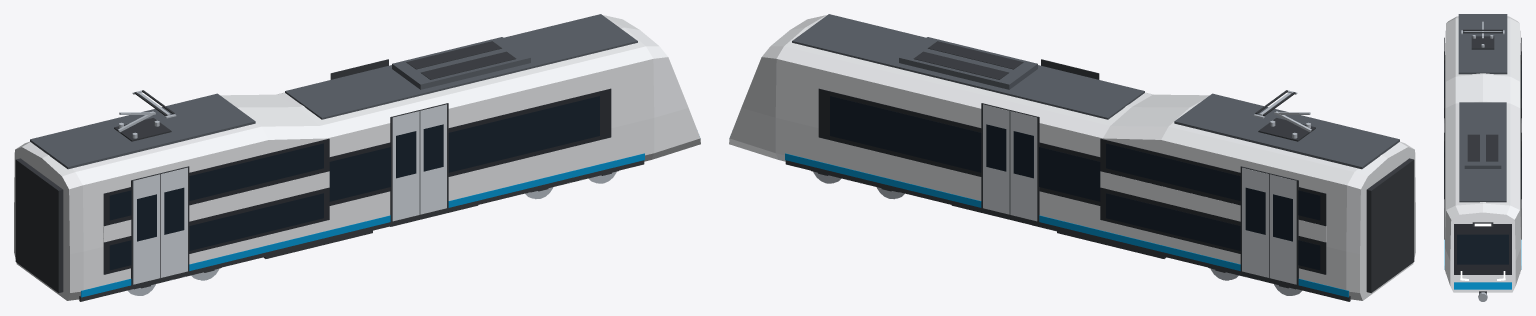
Rendered from rer_e_rerng_cab.glb.
The picture shows the model from 3 angles, left to right: view 1: azimuth 30°, elevation 25°; view 2: azimuth 150°, elevation 25°; view 3: azimuth 270°, elevation 25°; orthographic projection. The views are drawn at different scales.
Visible parts, largest first — view 1: rer_e_rerng_cab; view 2: rer_e_rerng_cab; view 3: rer_e_rerng_cab.
Part boxes in pixels (x1,y1,x2,y2): rer_e_rerng_cab: (14, 14, 700, 301); rer_e_rerng_cab: (729, 14, 1415, 301); rer_e_rerng_cab: (1444, 14, 1521, 301).
Bounding box in the file's own units: 18.97 × 4.88 × 3.06.
3 materials, 3 textured.
